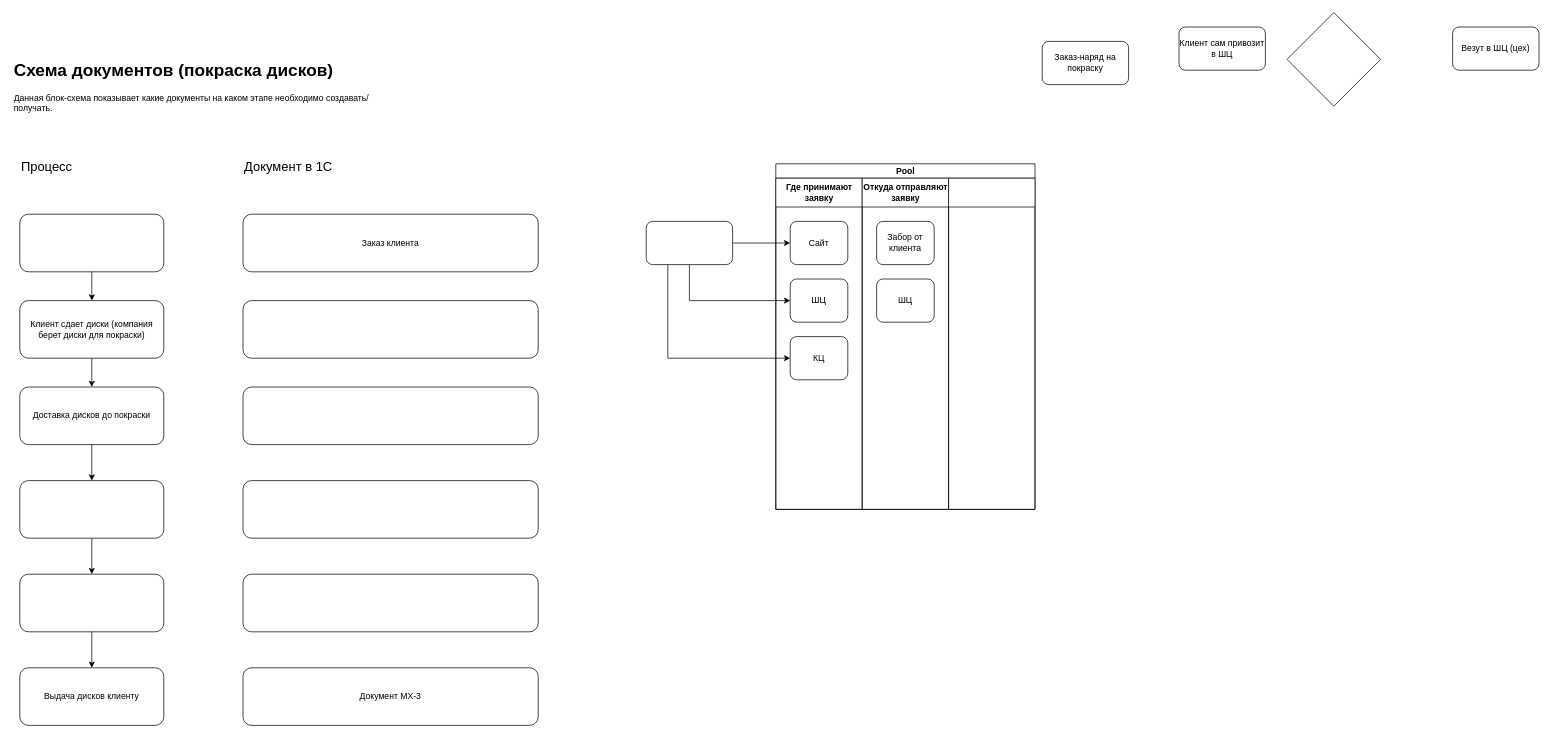
This 1552x738 diagram has some shape labels left out. Here are the shapes that lost their labels. From the top down, the centre of each, then its label:
At point (1333, 59): "Нужно делать балансировку?".
At point (91, 242): "Заказ клиента (сайт, телефон, ШЦ)".
At point (689, 243): "Заявка".
At point (991, 343): "Lane 3".
At point (91, 509): "Покраска дисков".
At point (91, 602): "Доставка дисков до ШЦ".
